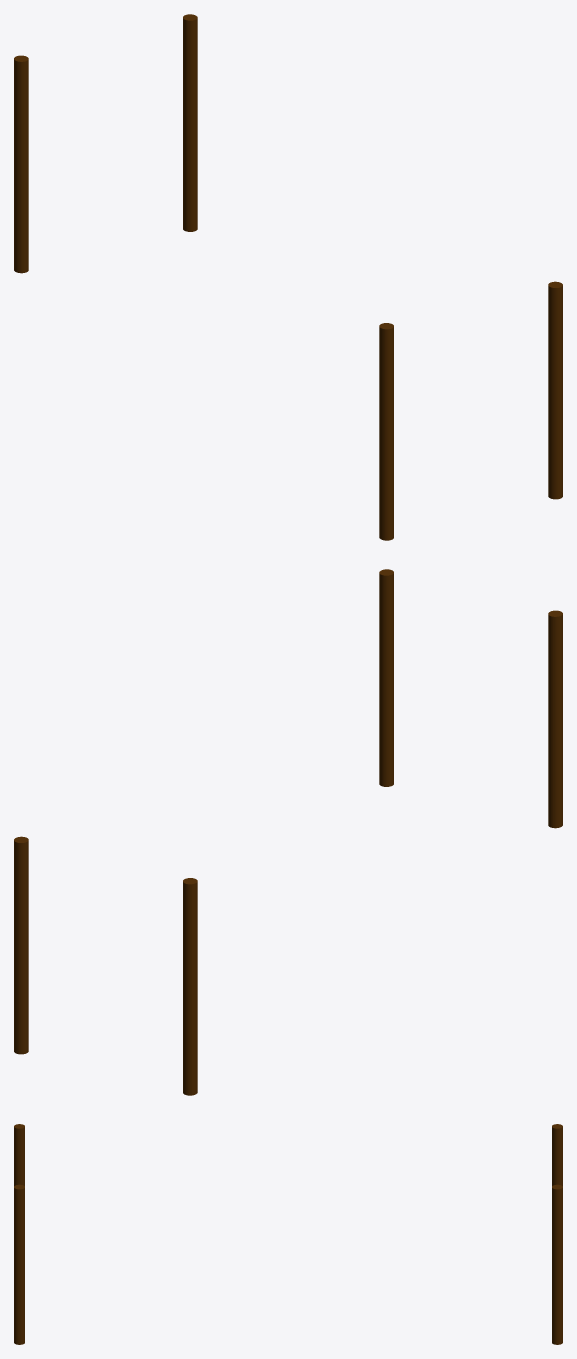
The model's file is table.fbx.
The picture shows the model from 3 angles, top to bottom: view 1: azimuth 30°, elevation 25°; view 2: azimuth 150°, elevation 25°; view 3: azimuth 270°, elevation 25°; orthographic projection. The views are drawn at different scales.
Parts seen in each view (by area): view 1: Circle; view 2: Circle; view 3: Circle.
Boxes of the visible parts, bbox=[...] form: Circle: bbox=[14, 14, 562, 540]; Circle: bbox=[14, 569, 562, 1095]; Circle: bbox=[14, 1124, 562, 1344].
Bounding box in the file's own units: 175 × 194 × 621.
